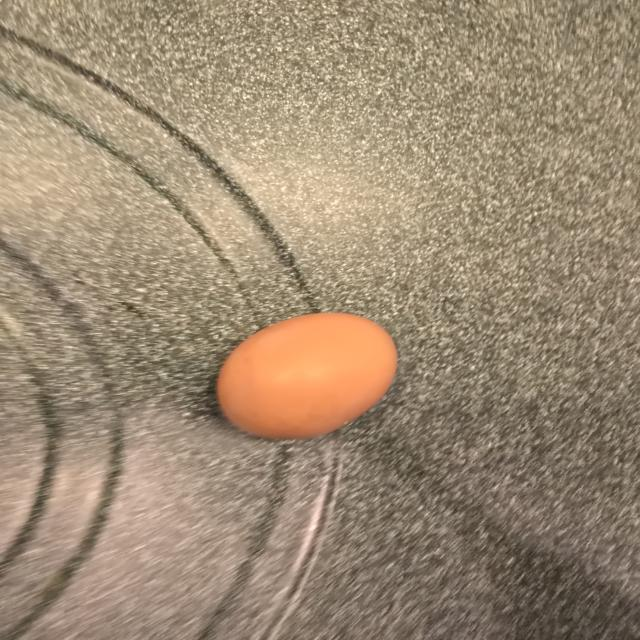Egg: (216, 313, 397, 440)
